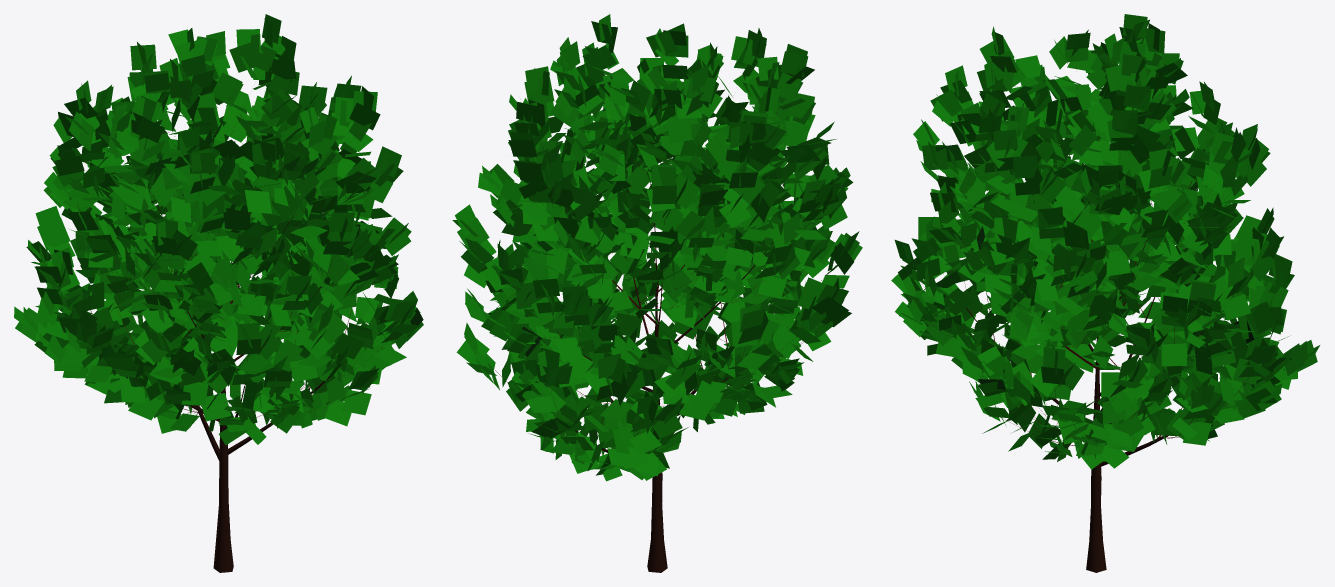
File: tree.obj
3 views of the same model, side by side, from view 1: azimuth 30°, elevation 25°; view 2: azimuth 150°, elevation 25°; view 3: azimuth 270°, elevation 25° (orthographic).
Visible parts, largest first — view 1: Material2.448; view 2: Material2.448; view 3: Material2.448.
Boxes of the visible parts, left/top/right/bottom form: Material2.448: left=14, top=14, right=423, bottom=572; Material2.448: left=452, top=14, right=862, bottom=572; Material2.448: left=891, top=14, right=1319, bottom=572.
Bounding box in the file's own units: 239 × 325 × 242.
